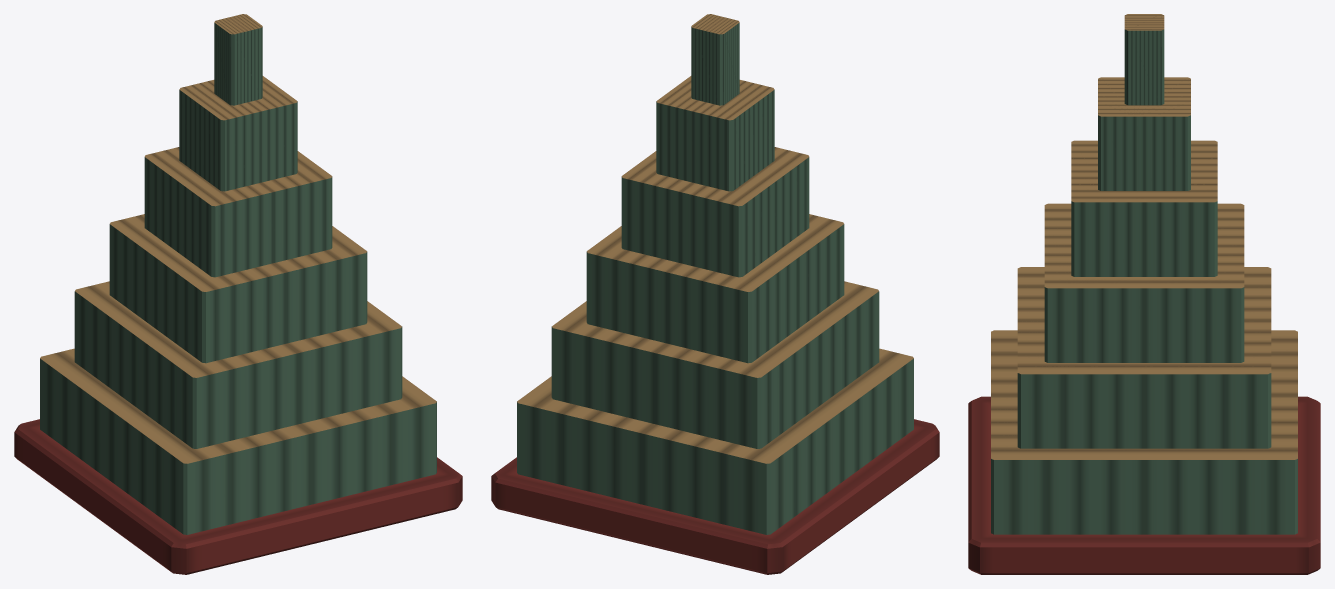
File: s07-stacked-can-pyramid-low.glb
3 renders of one model, left to right at view 1: azimuth 30°, elevation 25°; view 2: azimuth 150°, elevation 25°; view 3: azimuth 270°, elevation 25°, orthographic. The views are drawn at different scales.
Visible parts, largest first — view 1: Six stepped tin courses, Banquet plinth; view 2: Six stepped tin courses, Banquet plinth; view 3: Six stepped tin courses, Banquet plinth.
Part boxes in pixels (x1=…): Six stepped tin courses: x1=40, y1=14, x2=436, y2=534; Banquet plinth: x1=14, y1=419, x2=462, y2=574; Six stepped tin courses: x1=517, y1=14, x2=913, y2=534; Banquet plinth: x1=491, y1=419, x2=939, y2=574; Six stepped tin courses: x1=991, y1=14, x2=1297, y2=534; Banquet plinth: x1=968, y1=396, x2=1320, y2=574.
Size of the model in its own units: 1.63 by 2.45 by 1.63.
1 material, 1 textured.
